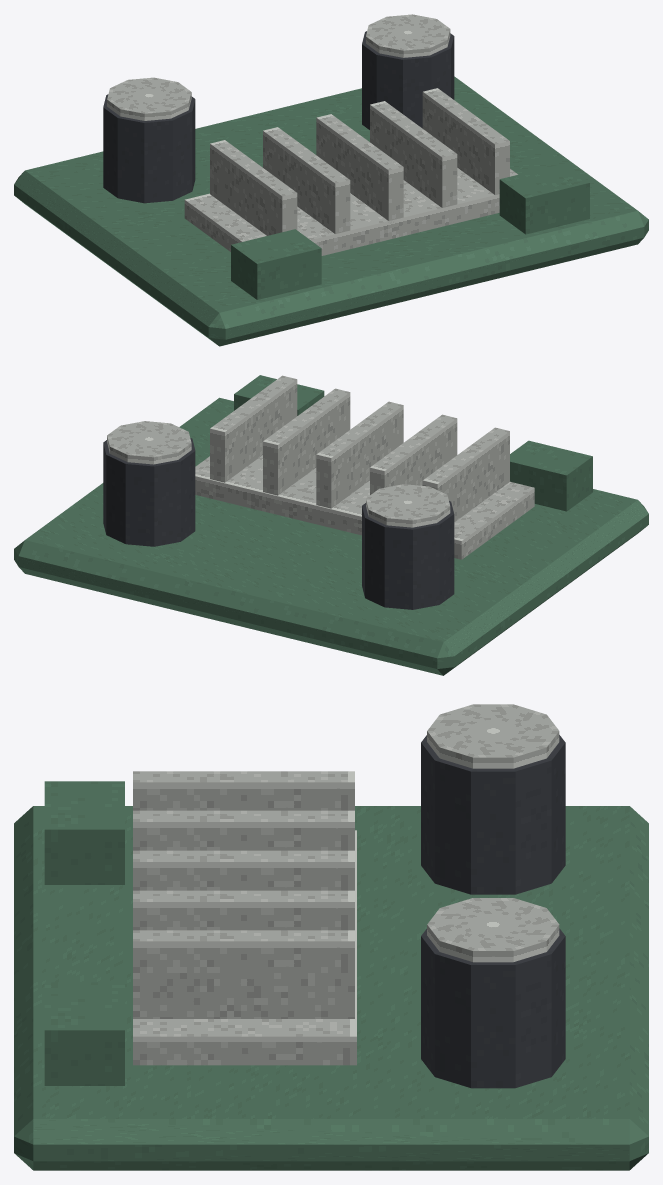
Rendered from amplifier.glb.
3 renders of one model, top to bottom at view 1: azimuth 30°, elevation 25°; view 2: azimuth 150°, elevation 25°; view 3: azimuth 270°, elevation 25°, orthographic. The views are drawn at different scales.
Visible parts, largest first — view 1: block_circuit substrate, block_heat sink fin (×5), block_tall capacitor (×2), block_terminal block (×2), block_heat sink base, block_capacitor cap (×2); view 2: block_circuit substrate, block_heat sink fin (×5), block_tall capacitor (×2), block_heat sink base, block_capacitor cap (×2), block_terminal block (×2); view 3: block_circuit substrate, block_heat sink fin (×5), block_tall capacitor (×2), block_terminal block (×2), block_capacitor cap (×2), block_heat sink base.
Boxes of the visible parts, x1,y1,x2,y2 form: block_circuit substrate: (14,76,648,346); block_heat sink fin (×5): (210,88,509,235); block_tall capacitor (×2): (103,31,454,203); block_terminal block (×2): (231,163,589,299); block_heat sink base: (184,168,517,255); block_capacitor cap (×2): (107,14,450,120); block_circuit substrate: (14,397,648,675); block_heat sink fin (×5): (210,375,509,521); block_tall capacitor (×2): (103,438,454,609); block_heat sink base: (195,455,534,559); block_capacitor cap (×2): (107,421,450,527); block_terminal block (×2): (234,375,592,511); block_circuit substrate: (14,806,648,1170); block_heat sink fin (×5): (133,771,354,1018); block_tall capacitor (×2): (421,735,565,1088); block_terminal block (×2): (44,781,124,1085); block_capacitor cap (×2): (427,704,559,962); block_heat sink base: (133,830,356,1065).
Bounding box in the file's own units: 0.1184 × 0.0312 × 0.0965.
1 material, 1 textured.
